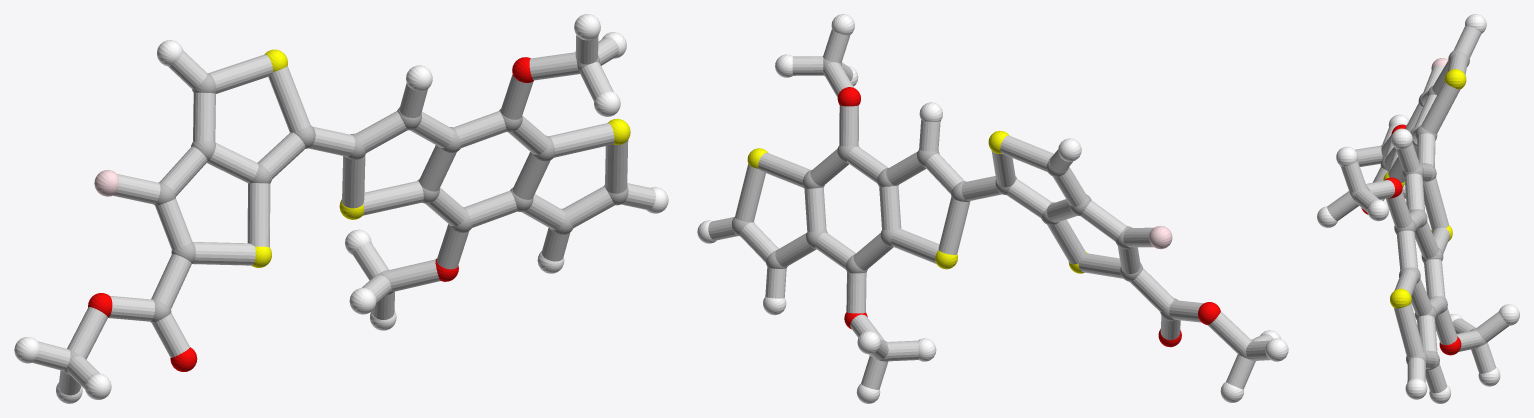
Rendered from Dimethoxy_Benzodithiophene_Phi_15_Theta_40_Methylcarbonyl_3_Fluoro_Thienothiophene.glb.
The picture shows the model from 3 angles, left to right: view 1: azimuth 30°, elevation 25°; view 2: azimuth 150°, elevation 25°; view 3: azimuth 270°, elevation 25°; orthographic projection. The views are drawn at different scales.
Visible parts, largest first — view 1: grp15205, grp8689, grp1, grp13395, grp7241; view 2: grp15205, grp8689, grp1, grp13395, grp7241; view 3: grp15205, grp8689, grp1, grp7241, grp13395.
Boxes of the visible parts, x1,y1,x2,y2 form: grp15205: (32, 35, 655, 395); grp8689: (14, 14, 668, 403); grp1: (63, 55, 628, 374); grp13395: (88, 57, 533, 371); grp7241: (252, 49, 630, 267); grp15205: (708, 29, 1273, 389); grp8689: (697, 14, 1288, 403); grp1: (732, 58, 1255, 361); grp13395: (837, 87, 1220, 347); grp7241: (747, 130, 1087, 273); grp15205: (1327, 26, 1509, 393); grp8689: (1317, 14, 1519, 403); grp1: (1349, 50, 1486, 369); grp7241: (1383, 69, 1466, 308); grp13395: (1361, 124, 1461, 355).
Size of the model in its own units: 17.06 by 8.64 by 5.59.
